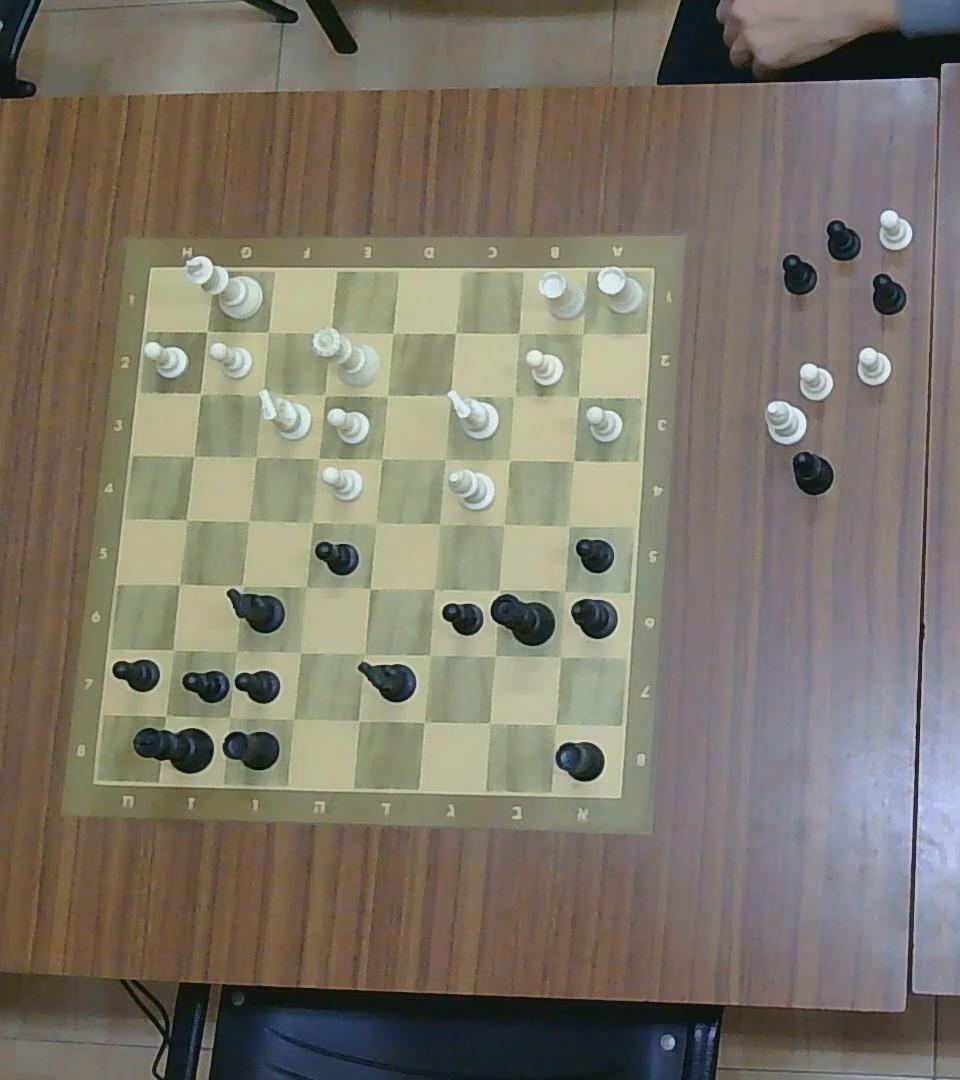xcorner: (477, 709, 503, 735), (280, 705, 305, 732), (215, 704, 242, 729), (167, 571, 191, 596), (153, 703, 178, 727), (347, 707, 370, 733), (412, 710, 436, 734), (549, 644, 573, 668), (288, 640, 311, 665), (543, 712, 568, 735), (427, 511, 450, 534), (318, 322, 341, 345), (352, 641, 375, 664), (483, 644, 505, 668), (175, 507, 197, 531), (230, 573, 252, 597), (238, 508, 260, 531), (224, 638, 246, 661), (162, 638, 185, 660), (422, 577, 444, 600), (438, 383, 460, 406), (487, 577, 510, 599), (363, 512, 385, 534), (493, 512, 513, 536), (563, 449, 584, 471), (251, 382, 272, 404), (420, 643, 440, 666), (371, 448, 392, 469), (567, 384, 588, 405), (182, 445, 204, 465), (498, 449, 518, 471), (558, 513, 578, 535), (197, 319, 217, 341), (295, 576, 315, 598), (360, 576, 380, 598), (258, 321, 278, 343), (445, 321, 465, 343), (383, 321, 403, 343), (434, 448, 454, 469), (376, 384, 396, 405), (302, 510, 321, 532), (189, 383, 209, 403), (247, 446, 266, 467), (554, 581, 573, 602), (315, 384, 334, 405), (308, 447, 327, 467), (504, 386, 523, 406), (510, 322, 529, 342), (573, 322, 592, 342)
